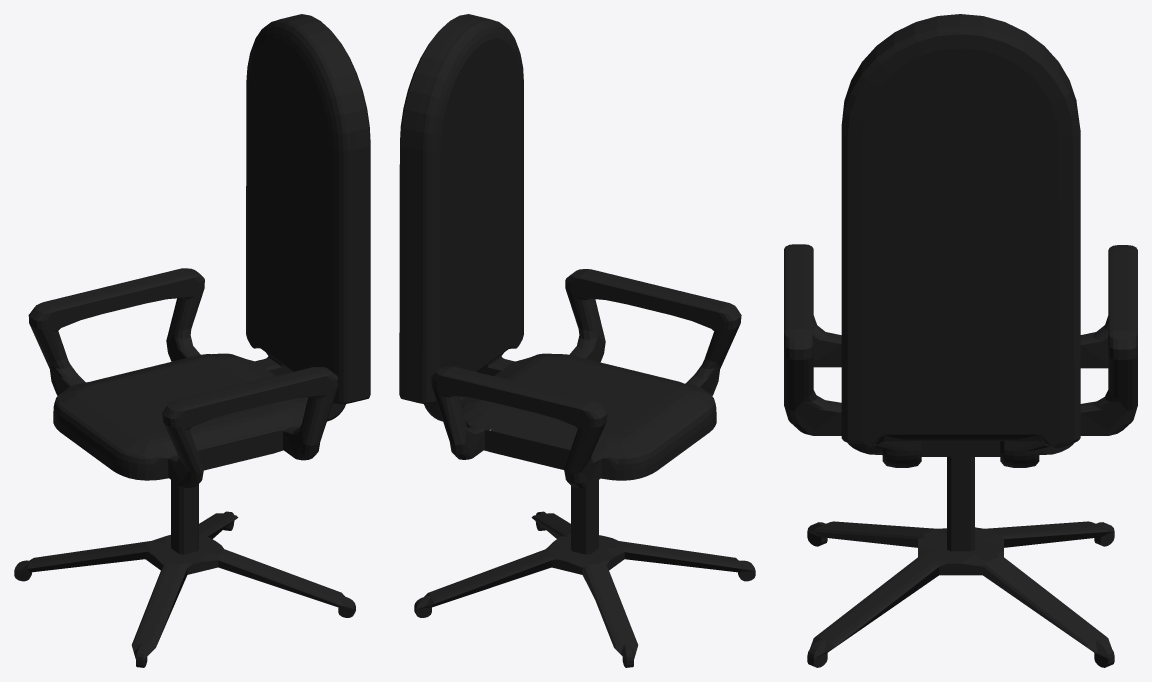
Rendered from chair_black.glb.
3 views of the same model, side by side, from view 1: azimuth 30°, elevation 25°; view 2: azimuth 150°, elevation 25°; view 3: azimuth 270°, elevation 25° (orthographic). The views are drawn at different scales.
Parts seen in each view (by area): view 1: Cube.001, Cube; view 2: Cube.001, Cube; view 3: Cube.001, Cube.
Boxes of the visible parts, x1,y1,x2,y2 form: Cube.001: [28, 14, 370, 488]; Cube: [14, 480, 355, 667]; Cube.001: [399, 14, 741, 488]; Cube: [414, 480, 755, 667]; Cube.001: [784, 14, 1137, 467]; Cube: [807, 457, 1114, 667].
Bounding box in the file's own units: 1.78 × 3.7 × 1.8.
Materials: 2 (2 with a texture image).
